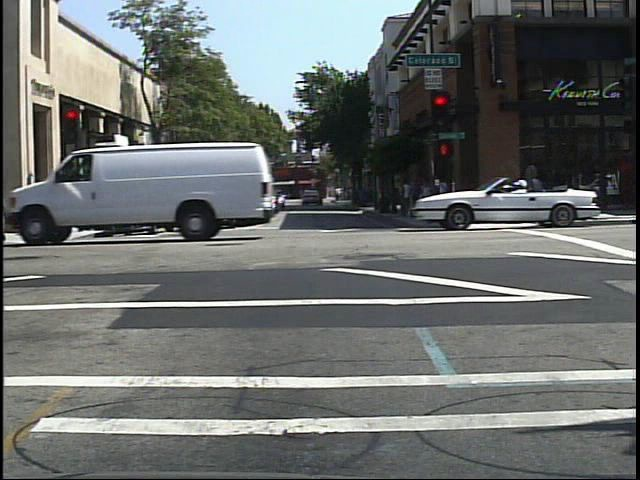person: (91, 180, 110, 229)
